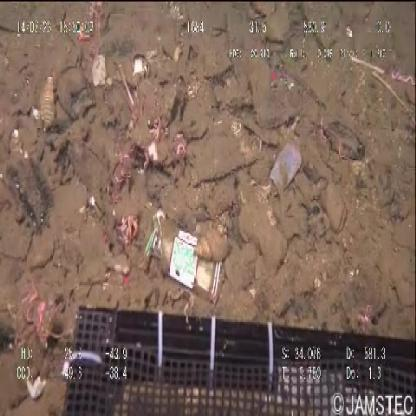Rác: (144, 210, 224, 307), (268, 142, 304, 193)
